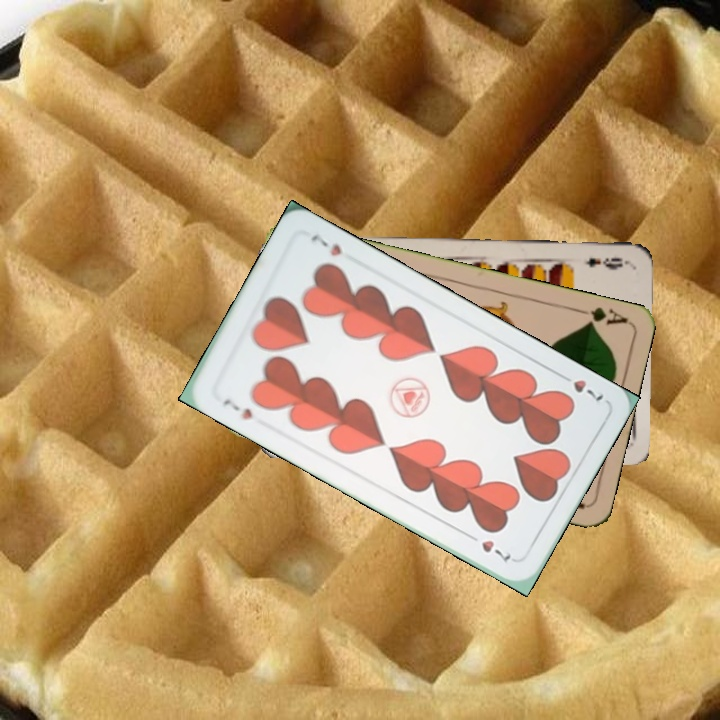E9: (582, 253, 629, 273)
GA: (571, 302, 630, 329)
H7: (554, 369, 606, 405), (219, 395, 255, 423)
